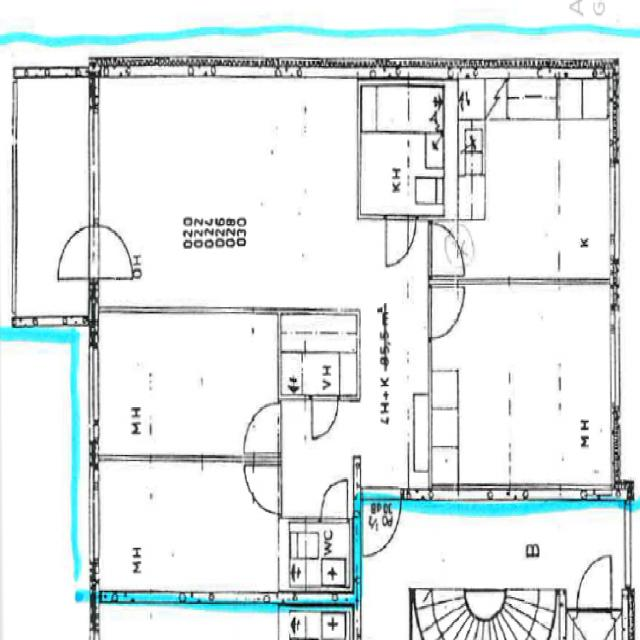door: (362, 485, 402, 559), (88, 226, 134, 279), (54, 226, 98, 279), (427, 221, 467, 275), (428, 286, 466, 338), (244, 464, 280, 514), (245, 402, 280, 452), (385, 213, 415, 263), (320, 478, 347, 524), (312, 394, 338, 439)
